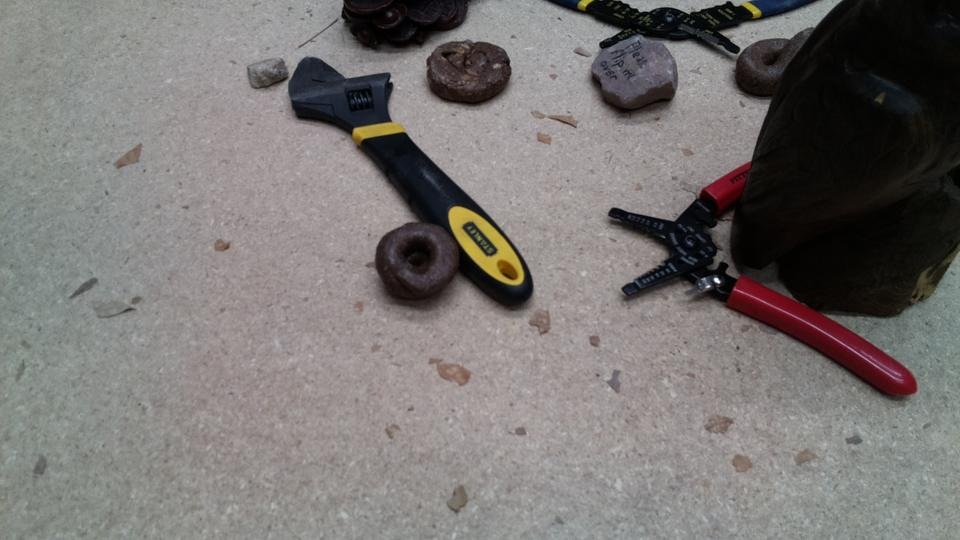poop: (367, 217, 464, 309), (731, 22, 820, 102), (420, 35, 515, 107)
